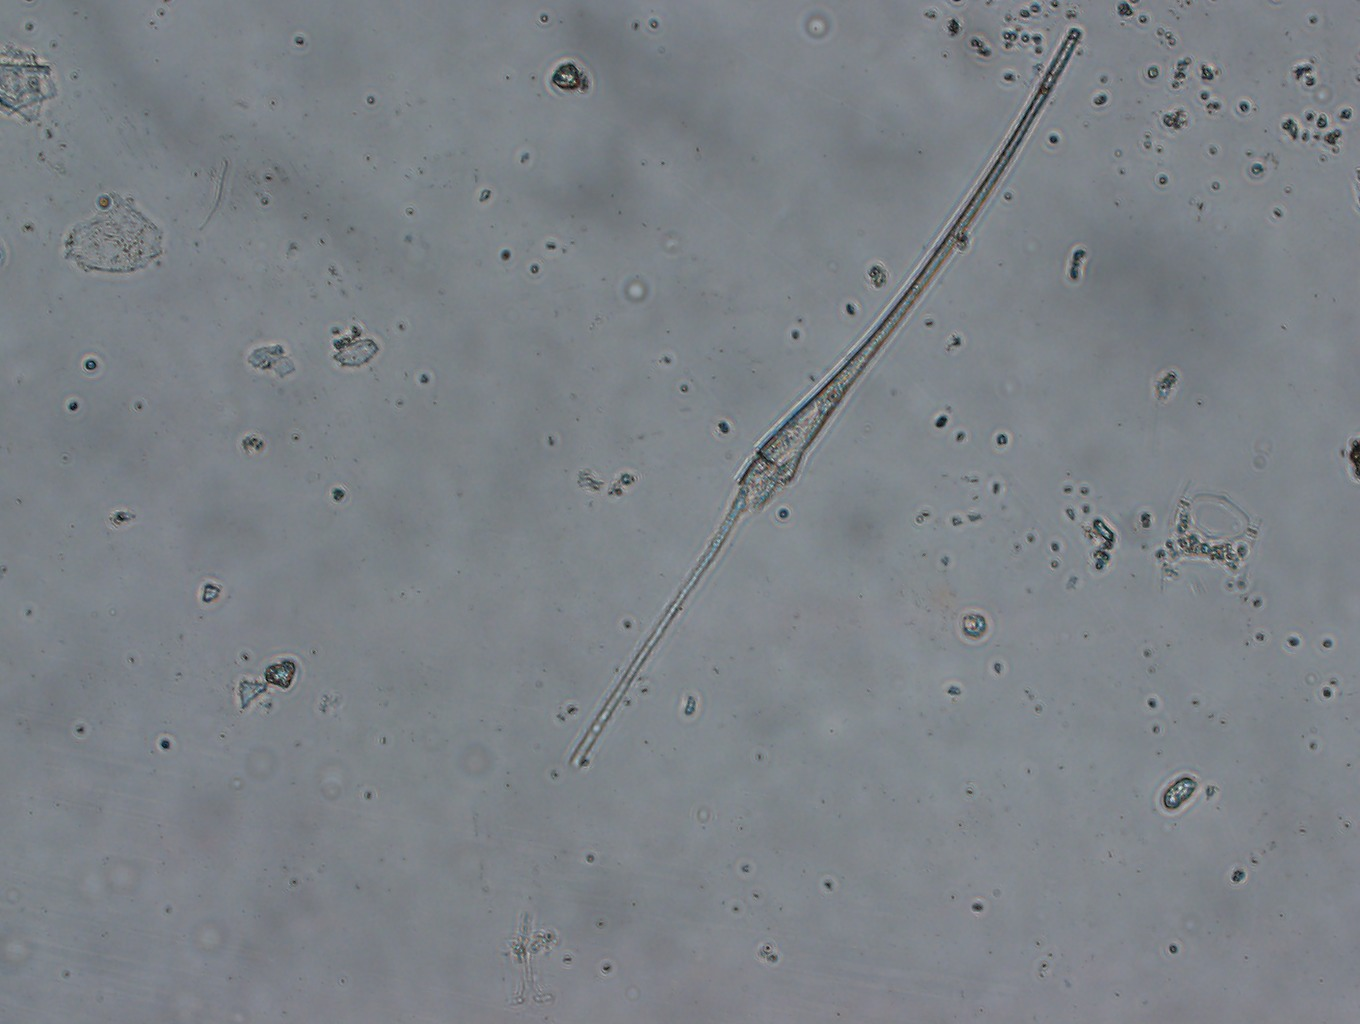ceratium fusus: (571, 20, 1088, 769)
eucampia: (1160, 474, 1268, 606)
